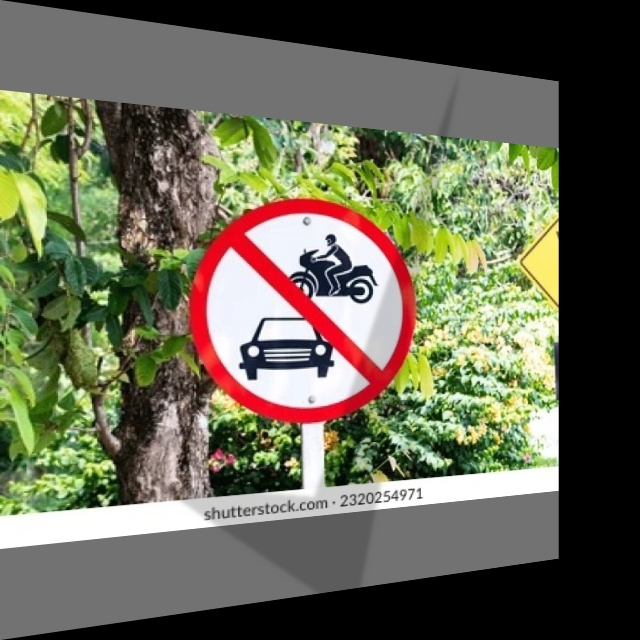All_Motor_Vehicles_Prohibited: (193, 194, 410, 422)
